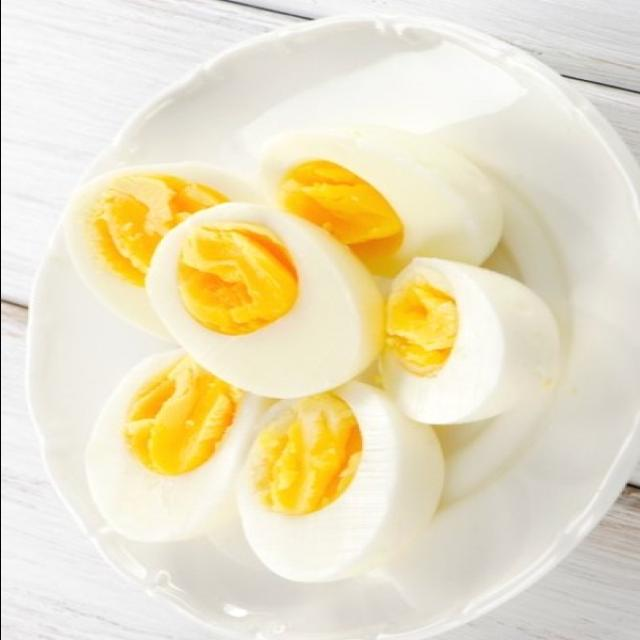telur rebus: (236, 377, 442, 588), (258, 115, 514, 284), (146, 213, 382, 394), (372, 253, 578, 442), (55, 150, 261, 338), (82, 343, 260, 554)
